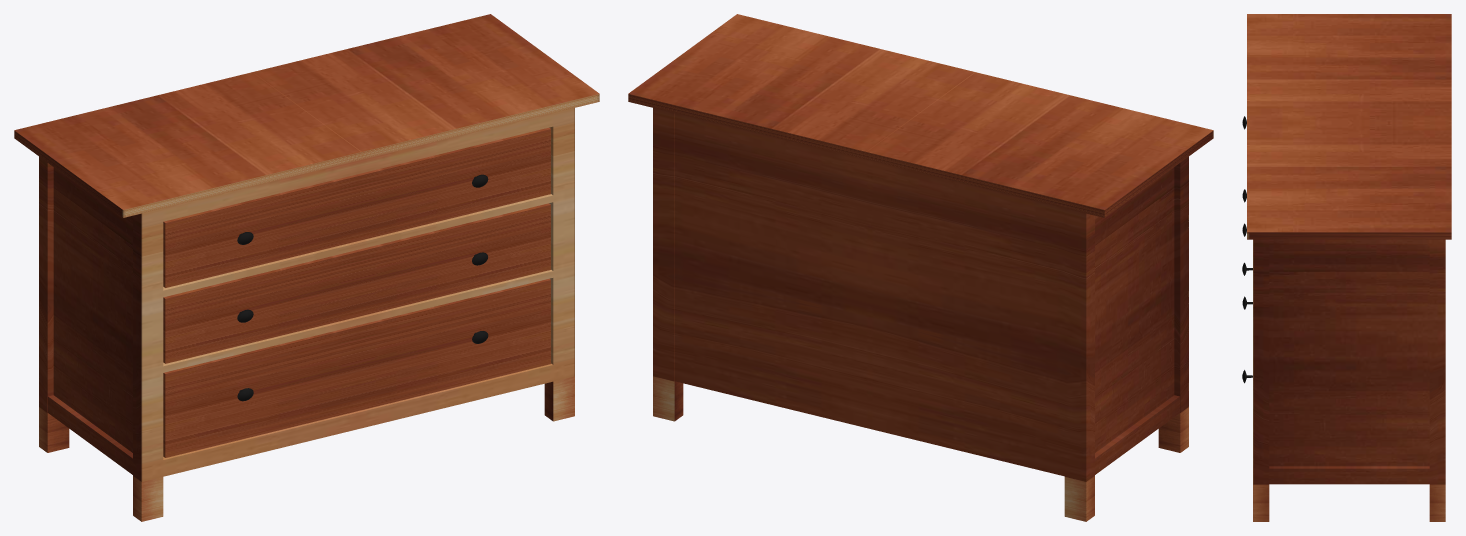
File: komod.fbx
The picture shows the model from 3 angles, left to right: view 1: azimuth 30°, elevation 25°; view 2: azimuth 150°, elevation 25°; view 3: azimuth 270°, elevation 25°; orthographic projection. The views are drawn at different scales.
Parts seen in each view (by area): view 1: Feet.001; view 2: Feet.001; view 3: Feet.001.
Part boxes in pixels (x1=…): Feet.001: x1=14, y1=14, x2=599, y2=521; Feet.001: x1=628, y1=14, x2=1213, y2=521; Feet.001: x1=1242, y1=14, x2=1451, y2=521.
Size of the model in its own units: 166 by 106 by 67.36.
